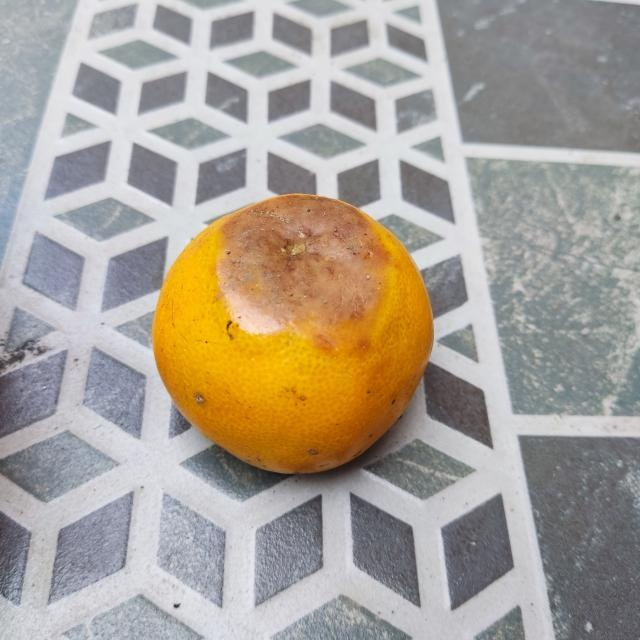agrume: (149, 194, 435, 477)
